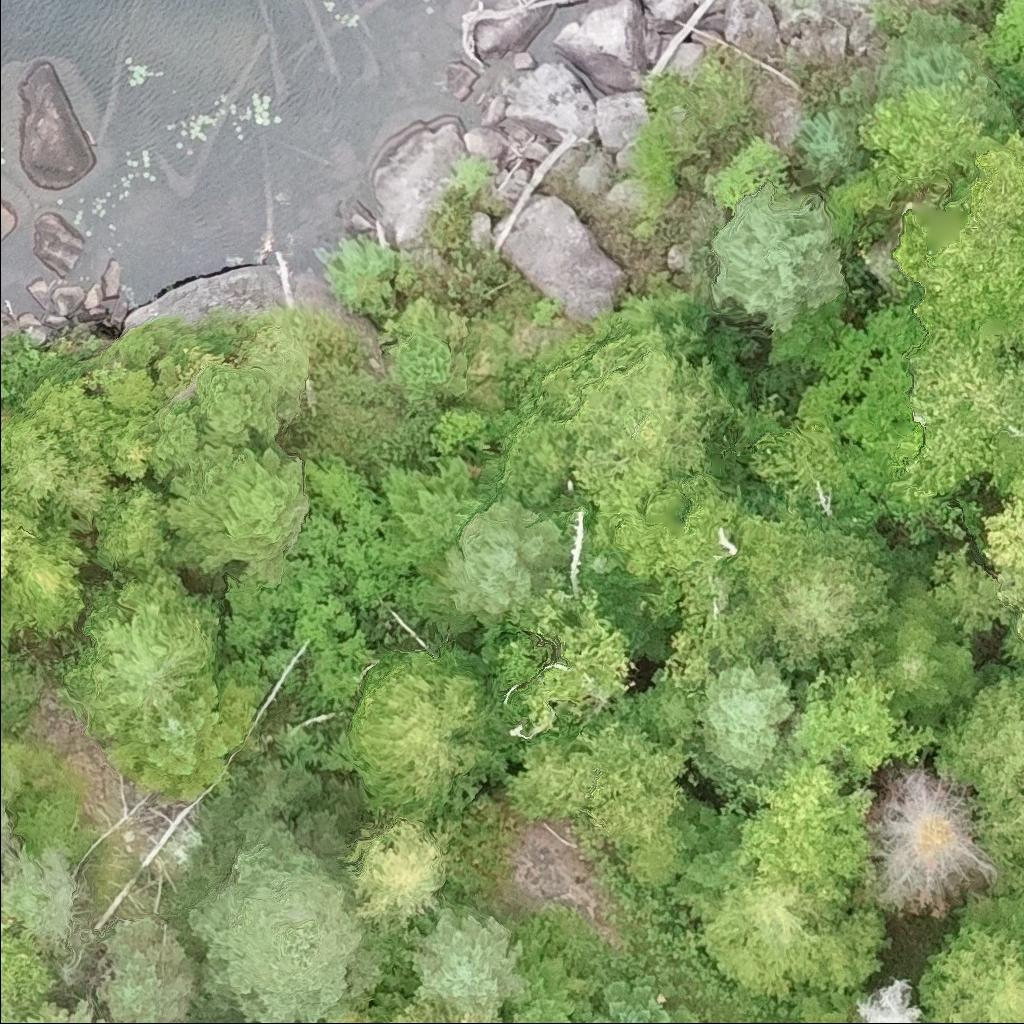crown: (186, 806, 389, 1023), (344, 646, 508, 833), (784, 639, 941, 782), (103, 673, 264, 801), (742, 753, 878, 903), (695, 873, 848, 999), (869, 762, 997, 912), (571, 705, 697, 850), (913, 894, 1023, 1023), (932, 673, 1023, 827), (342, 817, 454, 941), (401, 906, 528, 1013), (693, 654, 794, 786), (97, 914, 205, 1023), (667, 801, 753, 924), (503, 916, 596, 1023), (0, 841, 76, 962), (502, 728, 594, 824), (568, 972, 707, 1023), (0, 905, 57, 1023), (811, 905, 887, 988), (390, 981, 506, 1023), (976, 771, 1023, 873), (787, 985, 874, 1023), (849, 977, 917, 1023), (16, 998, 112, 1023), (0, 781, 24, 857), (991, 848, 1023, 894), (732, 1019, 754, 1023)
